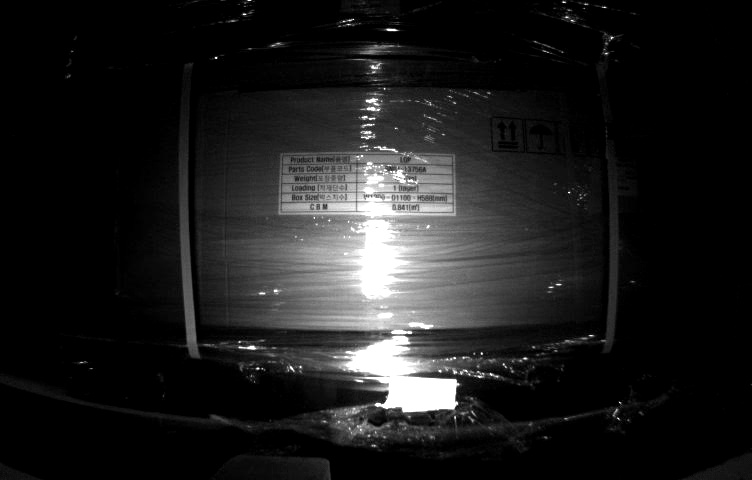True Barcode: (608, 153, 644, 196)
